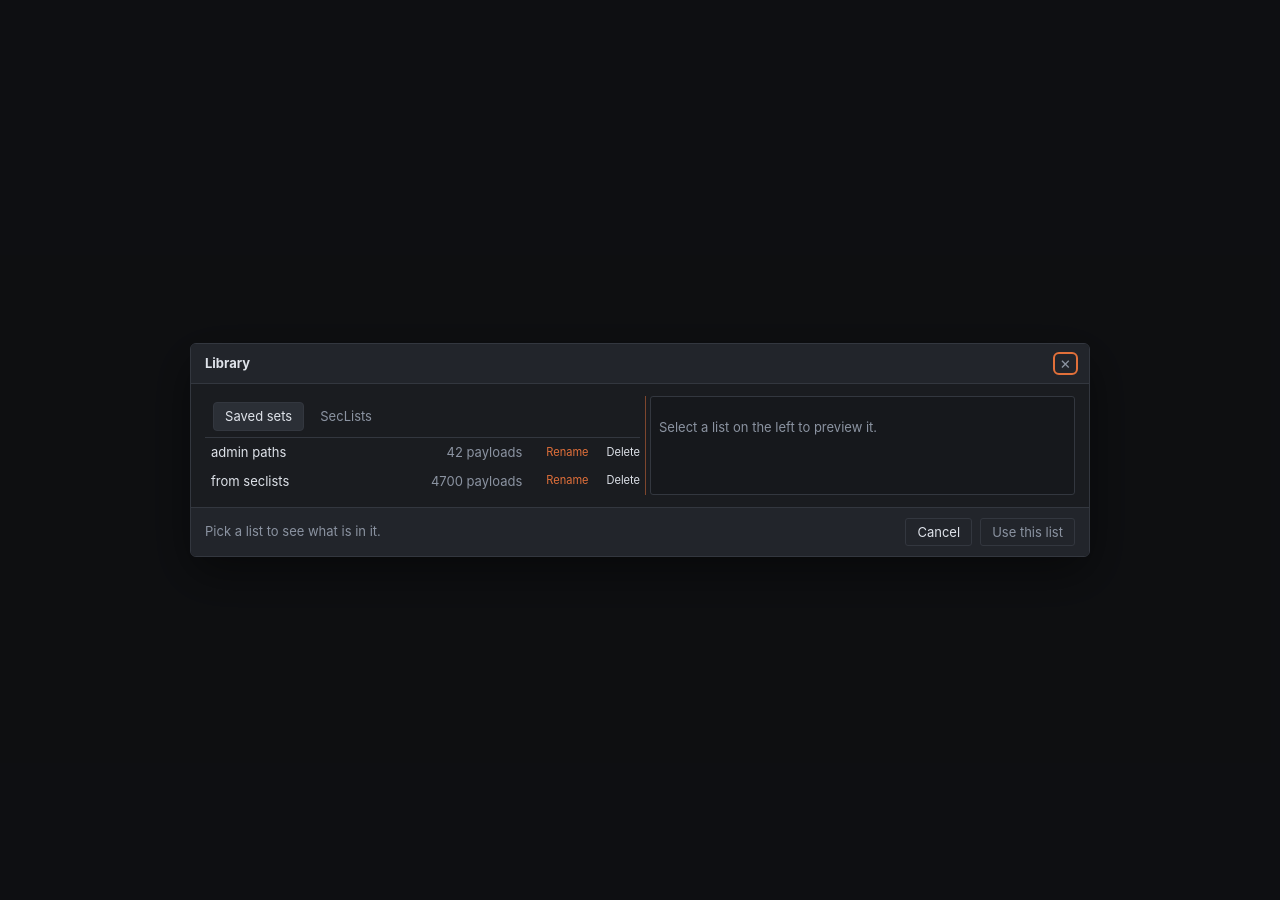
Scenario: PayloadLibrary › offers SecLists on its own tab
The width and height of the screenshot is (1280, 900).
Click the button "SecLists". click: [346, 417]
box: [308, 402, 384, 431]
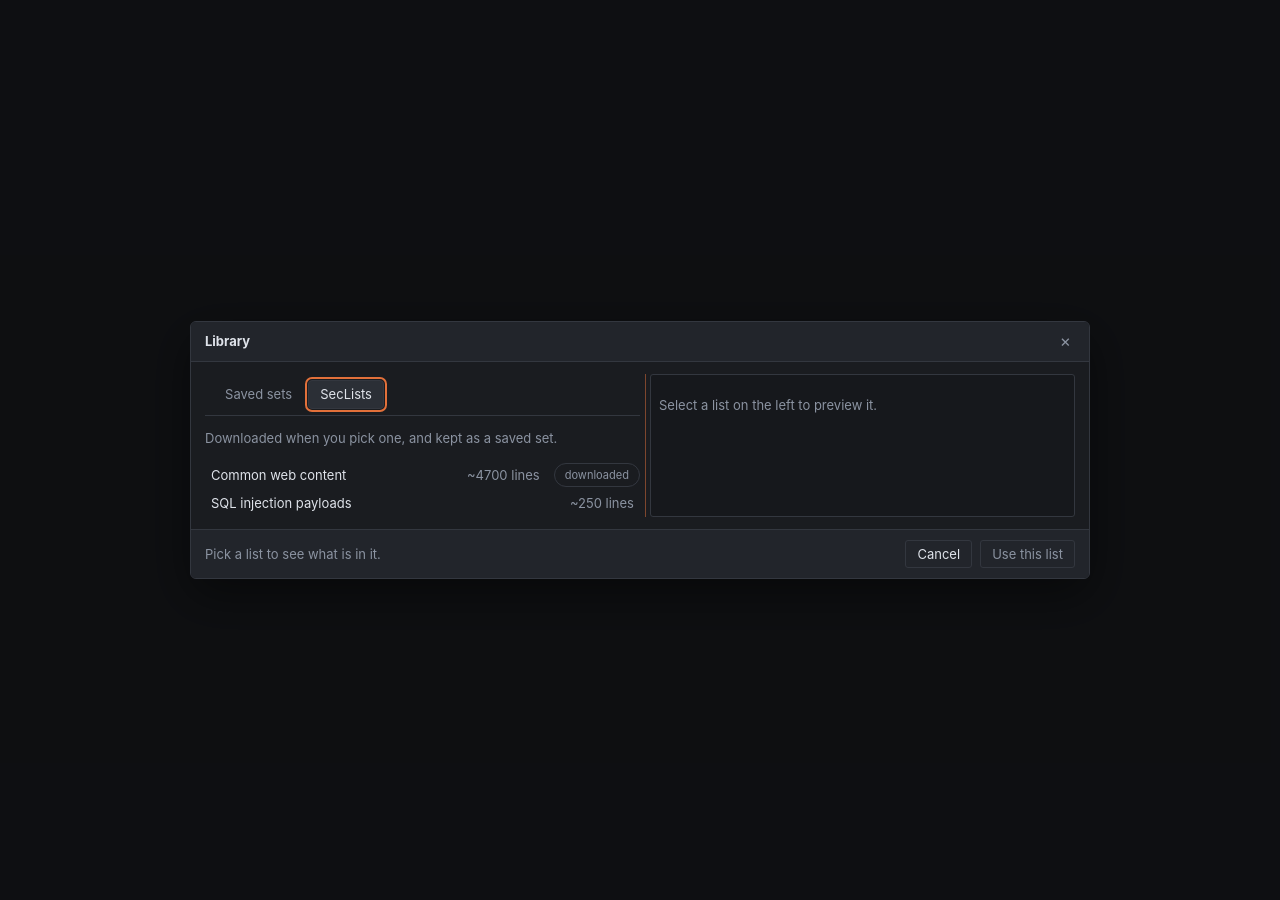
Expected: the text "Common web content" is shown, [211, 466, 346, 484]
